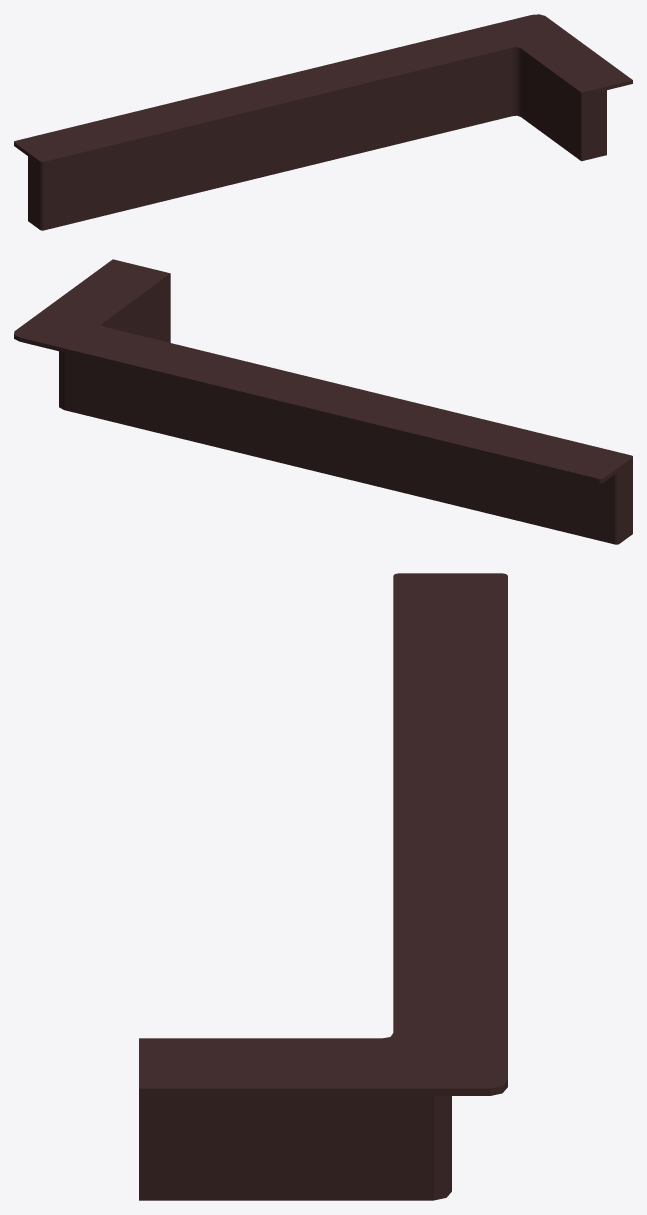
File: BarCounter.fbx
The picture shows the model from 3 angles, top to bottom: view 1: azimuth 30°, elevation 25°; view 2: azimuth 150°, elevation 25°; view 3: azimuth 270°, elevation 25°; orthographic projection. The views are drawn at different scales.
Visible parts, largest first — view 1: Countermesh; view 2: Countermesh; view 3: Countermesh.
Part boxes in pixels (<box>): Countermesh: <box>14,14,632,230</box>; Countermesh: <box>14,259,632,544</box>; Countermesh: <box>139,573,507,1200</box>.
Size of the model in its own units: 632 by 78.58 by 191.
